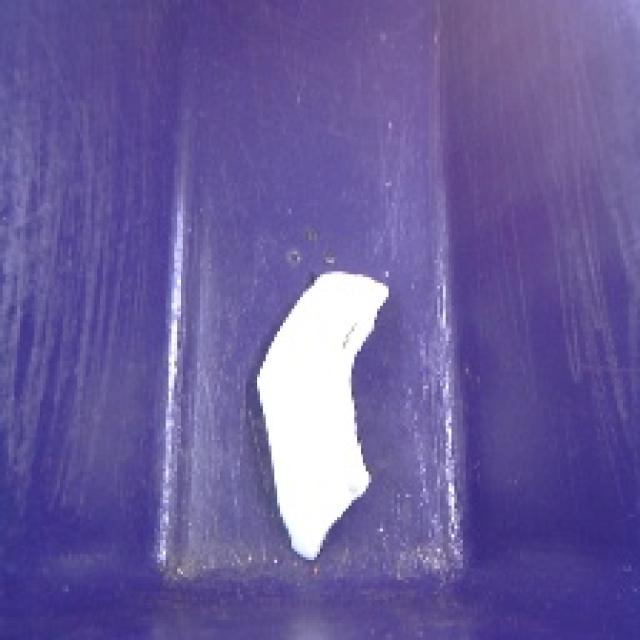china: (247, 264, 400, 565)
